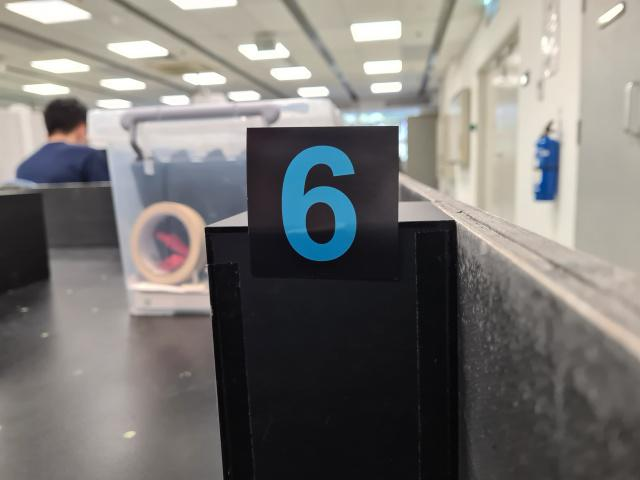six: (245, 125, 400, 281)
